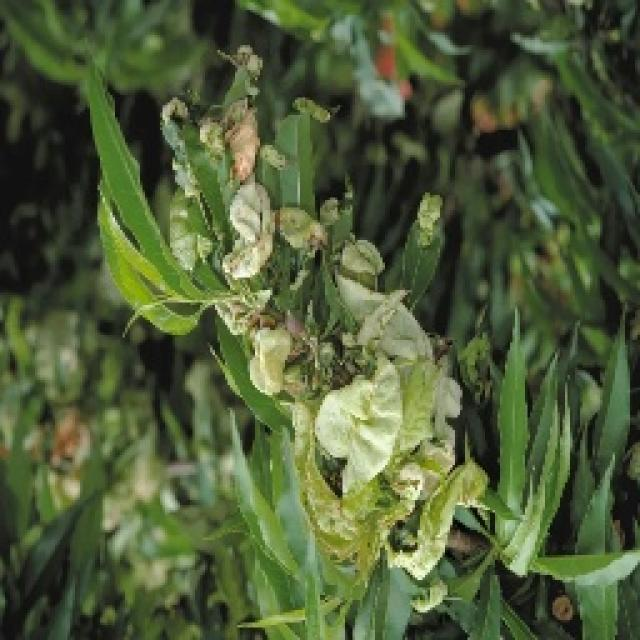peach_leaf_curl: (88, 40, 490, 592), (310, 355, 405, 495)
